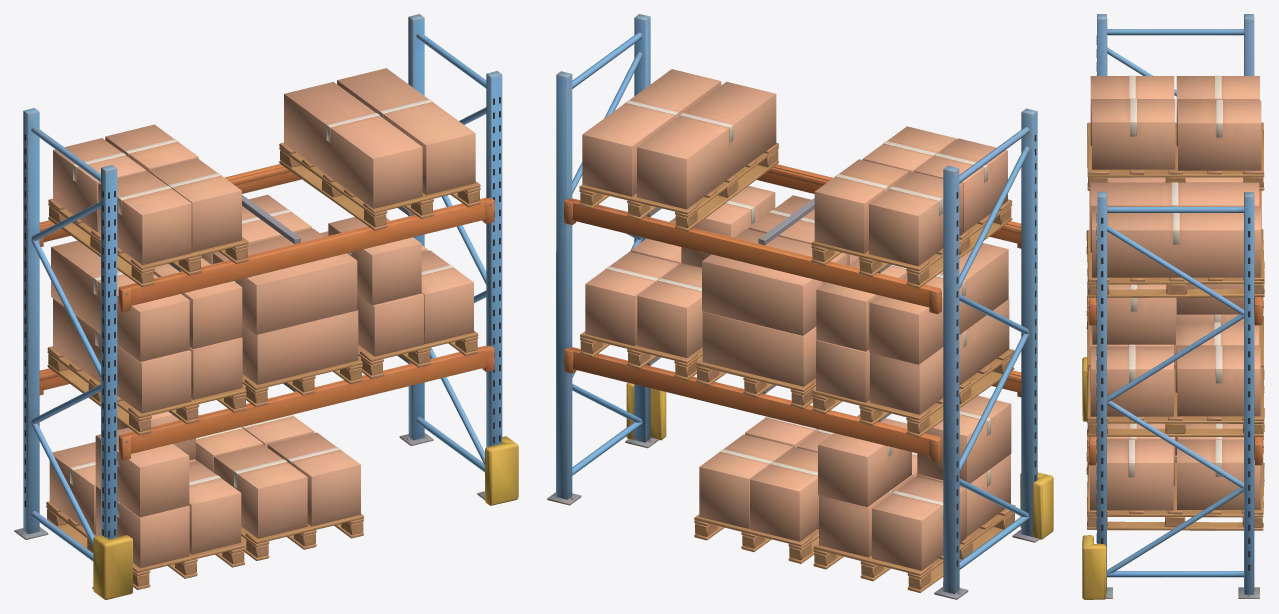
File: pallet-rack.glb
The picture shows the model from 3 angles, left to right: view 1: azimuth 30°, elevation 25°; view 2: azimuth 150°, elevation 25°; view 3: azimuth 270°, elevation 25°; orthographic projection. The views are drawn at different scales.
Parts seen in each view (by area): view 1: pallet-rack_body, pallet-rack_upright_slots; view 2: pallet-rack_body, pallet-rack_upright_slots; view 3: pallet-rack_body, pallet-rack_upright_slots.
Boxes of the visible parts, x1,y1,x2,y2 form: pallet-rack_body: (14,14,518,599); pallet-rack_upright_slots: (24,97,500,537); pallet-rack_body: (547,14,1053,599); pallet-rack_upright_slots: (956,135,1036,566); pallet-rack_body: (1082,14,1264,599); pallet-rack_upright_slots: (1096,35,1250,570).
Bounding box in the file's own units: 3.08 × 3 × 1.24.
Materials: 2 (1 with a texture image).
